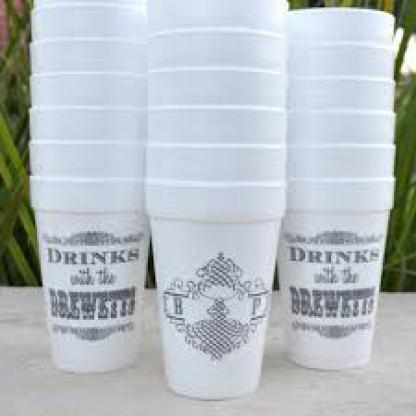paper: (144, 0, 287, 400), (24, 0, 150, 370), (277, 5, 394, 368), (146, 178, 287, 401), (28, 172, 142, 372), (277, 176, 394, 368)
